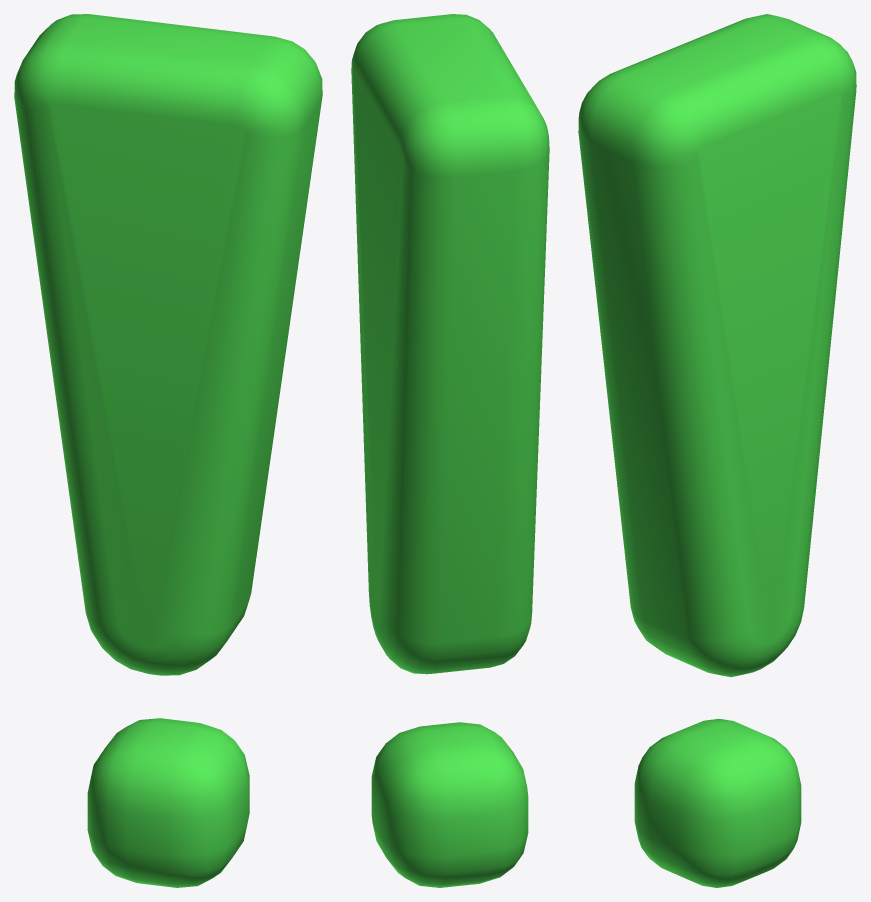
Rendered from Exclamation_blocking.fbx.
3 renders of one model, left to right at view 1: azimuth 30°, elevation 25°; view 2: azimuth 150°, elevation 25°; view 3: azimuth 270°, elevation 25°, orthographic. The views are drawn at different scales.
Visible parts, largest first — view 1: quete; view 2: quete; view 3: quete.
Boxes of the visible parts, x1=… form: quete: x1=14, y1=14, x2=322, y2=887; quete: x1=351, y1=14, x2=549, y2=887; quete: x1=578, y1=14, x2=856, y2=887.
Bounding box in the file's own units: 36.03 × 118 × 36.49.
